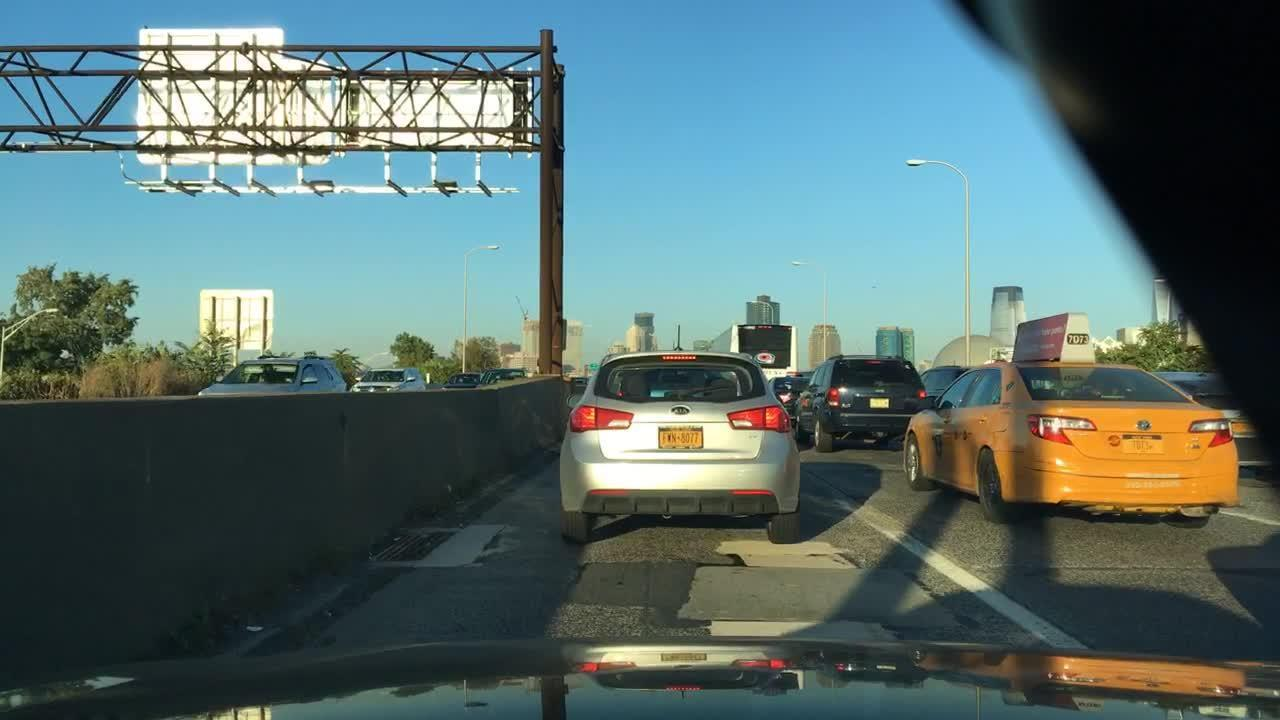Toyota: (1134, 416, 1156, 432)
jeep: (872, 386, 887, 398)
kia: (671, 406, 692, 416)
